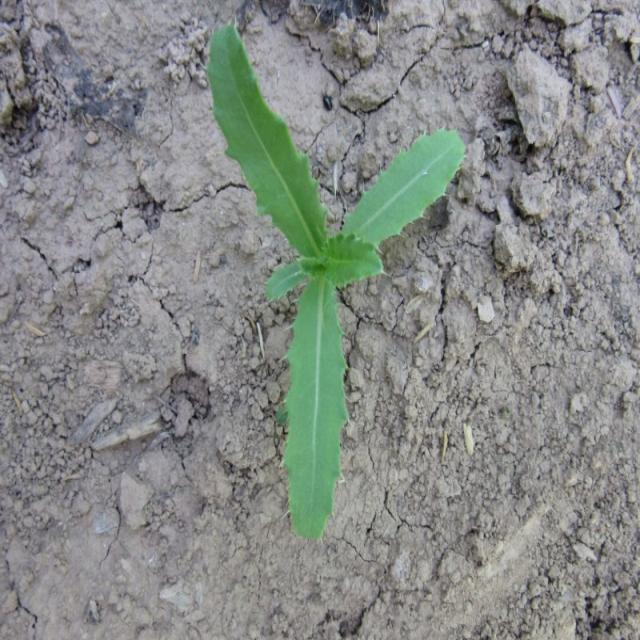cs: (204, 18, 468, 540)
